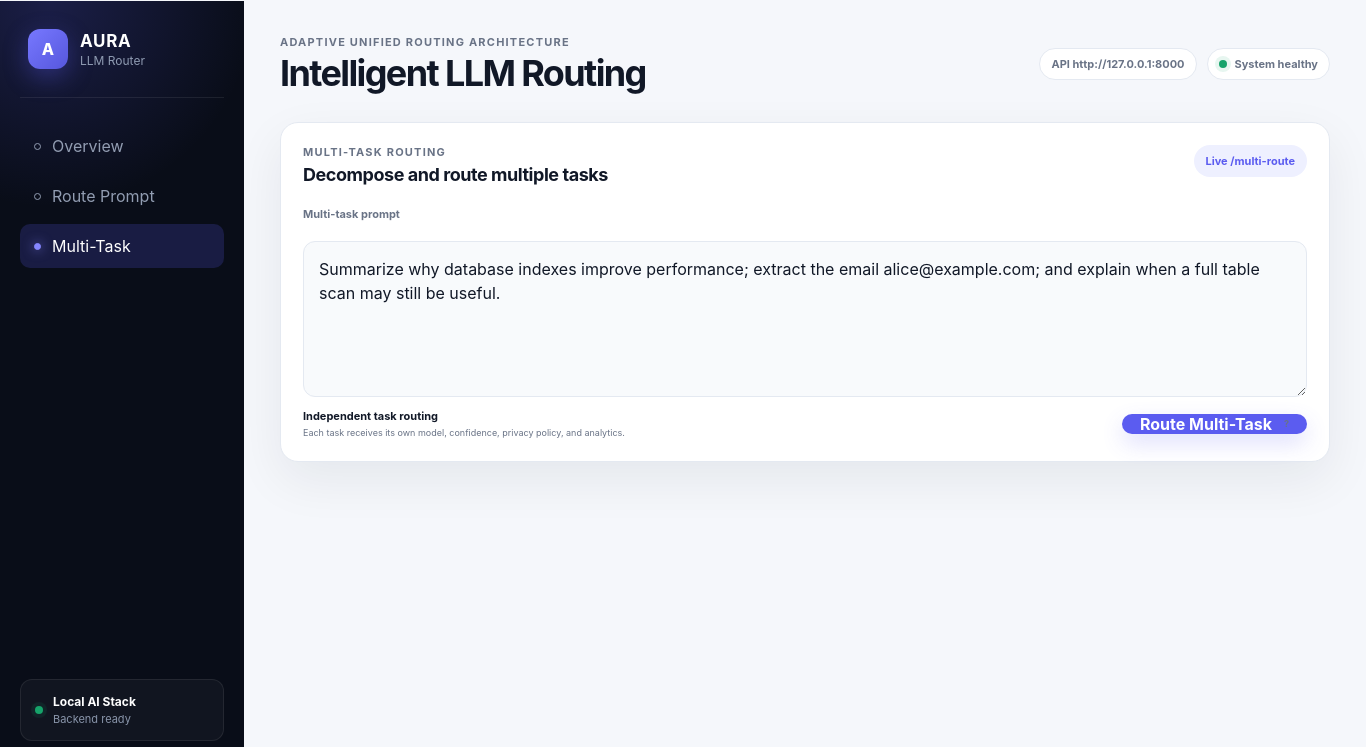
Test: AURA routed dashboard › preserves Multi-Task prompt and result across navigation without refetching
Expected: the text "System healthy" is shown, [1206,48,1330,80]
Replace the text in the text box labelled "Multi-task prompt" with "Remember this multi-task prompt" at (805, 319), box [303,241,1307,397]
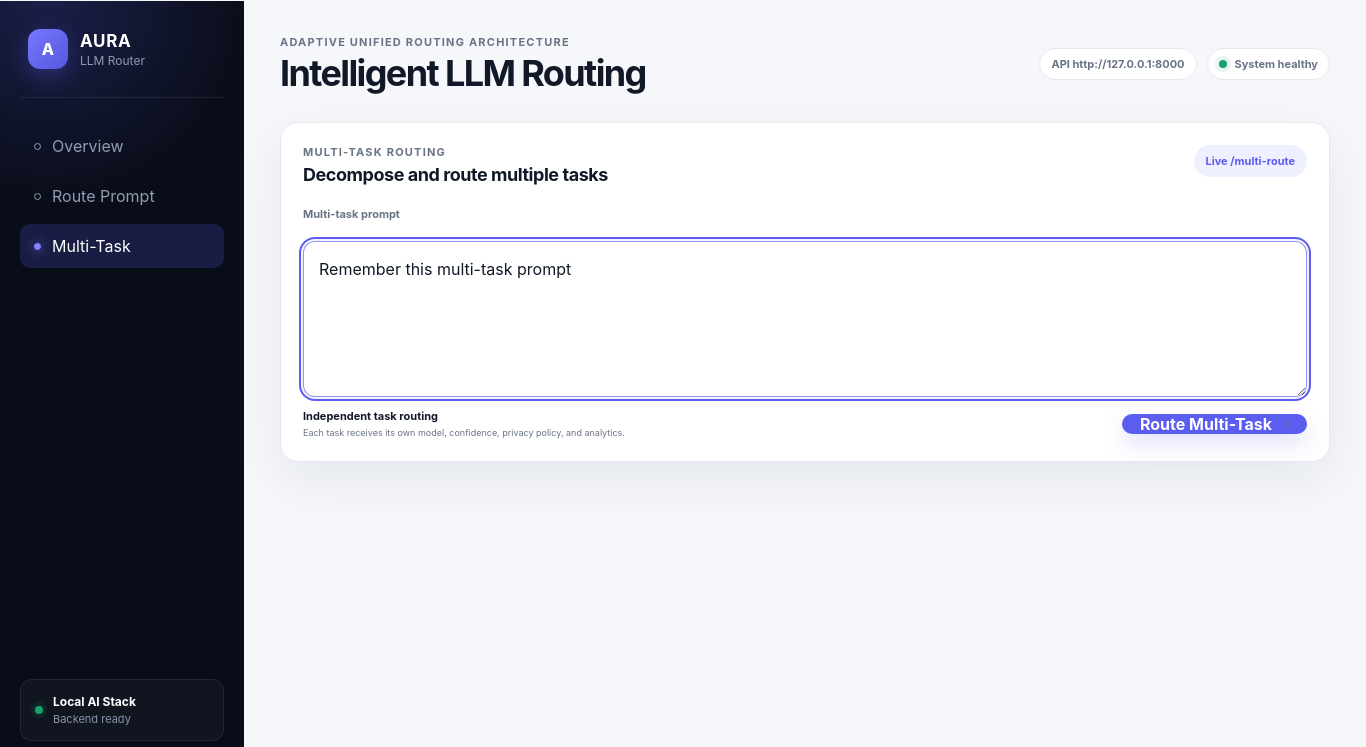
Click the button "Route Multi-Task ?" at (1214, 424), box [1122,414,1307,434]
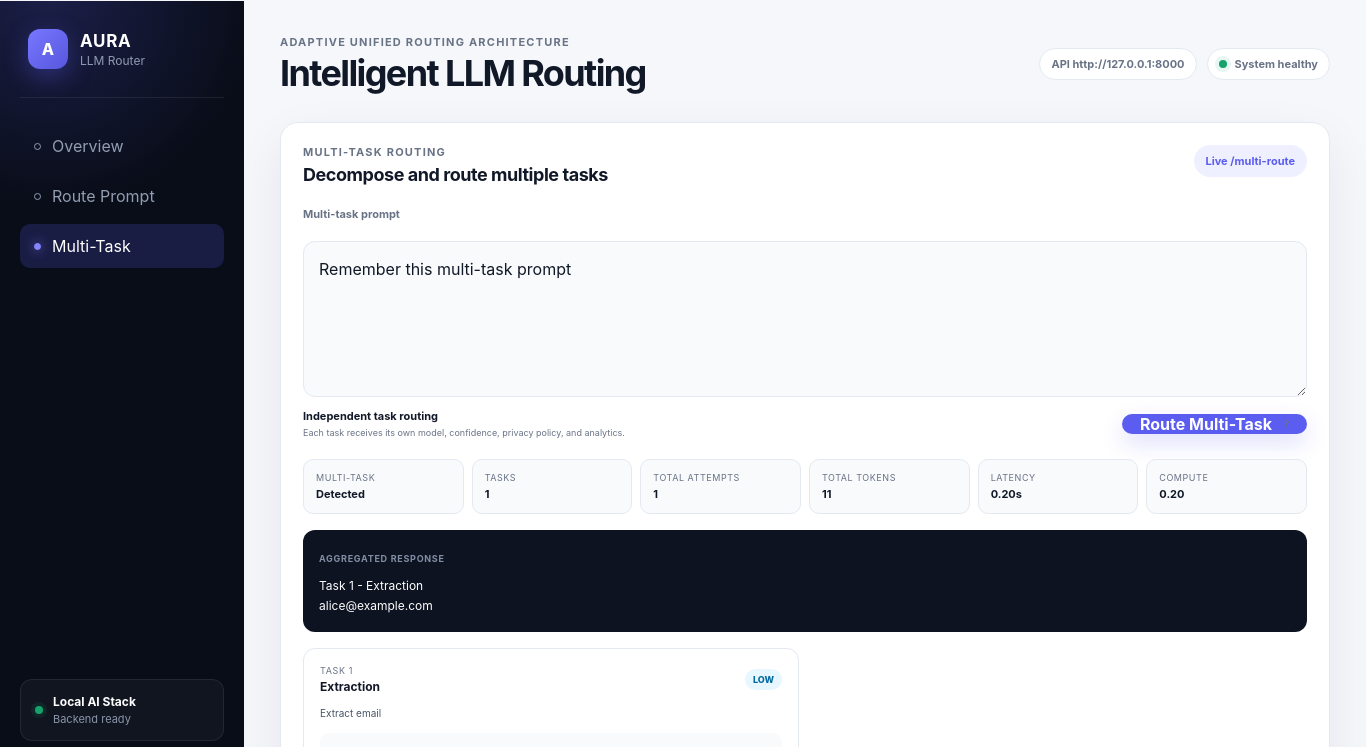
Click the link "Route Prompt" at (94, 196), box [34,186,155,206]
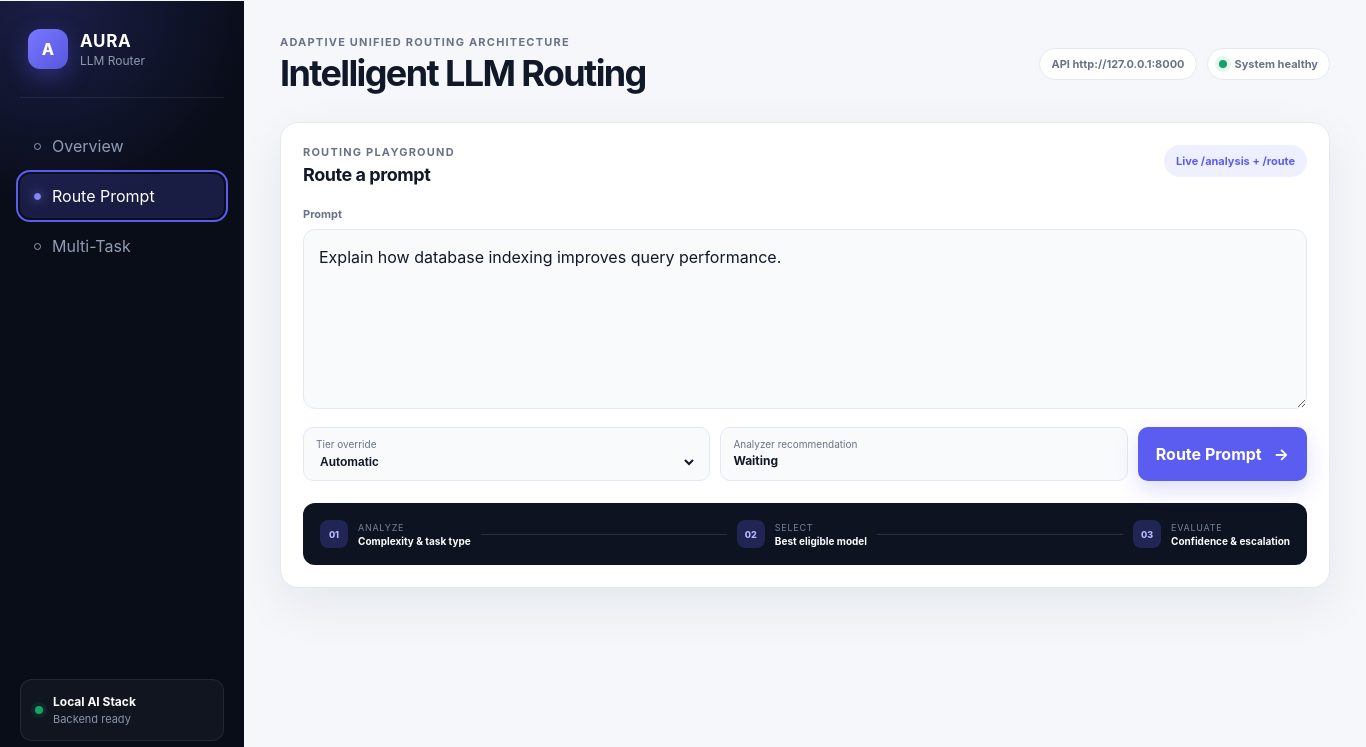
Click the link "Multi-Task" at (82, 246), box [34,236,131,256]
(page scrolled)
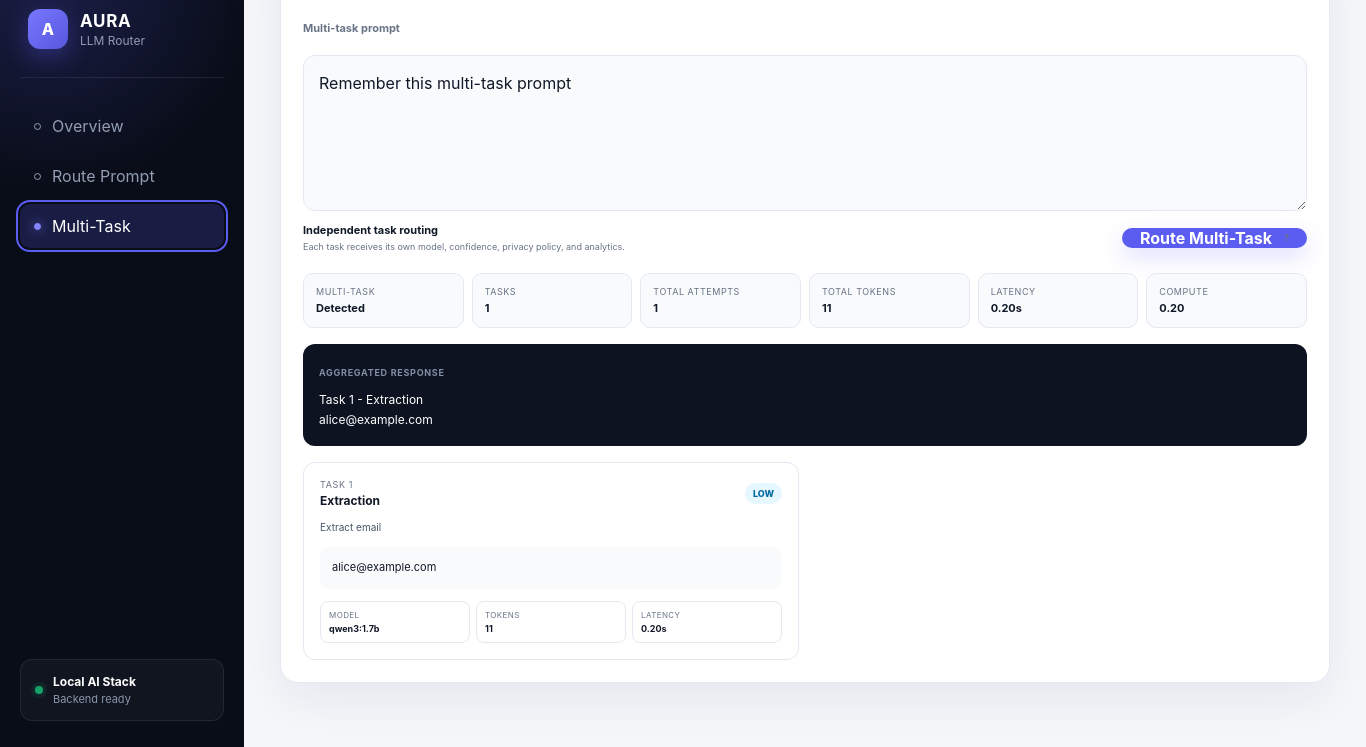
Result: the text box labelled "Multi-task prompt" holds "Remember this multi-task prompt" at [303,55,1307,211]
Result: the text "alice@example.com" is shown at [320,547,782,589]
